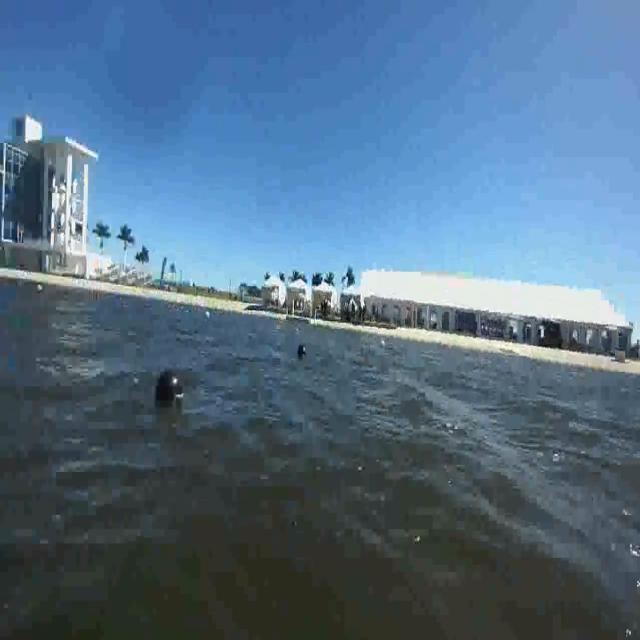black-buoy: (156, 372, 184, 407), (296, 342, 308, 358)
